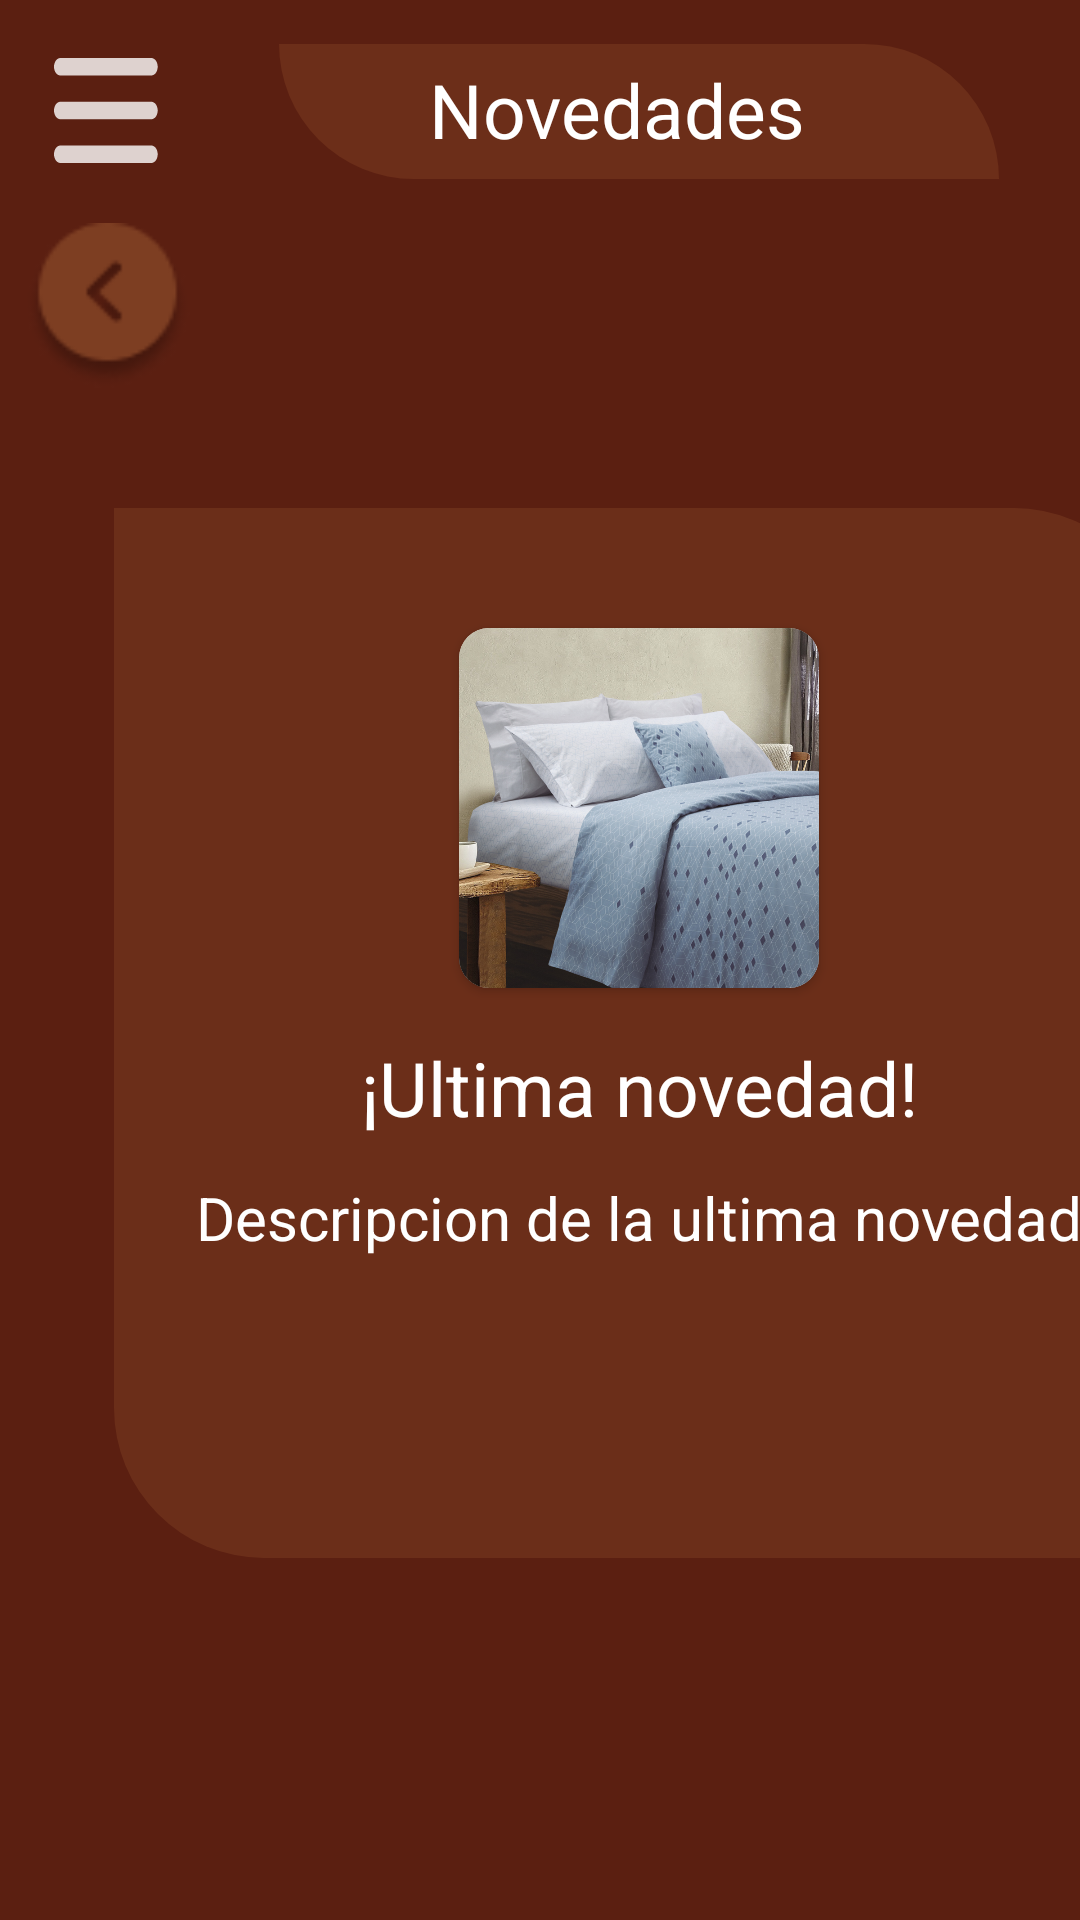

Locate icon controls on the screen. Image size 1080x1920, boxes as rect(x1, y1, x2, y2).
back: rect(40, 223, 175, 359)
